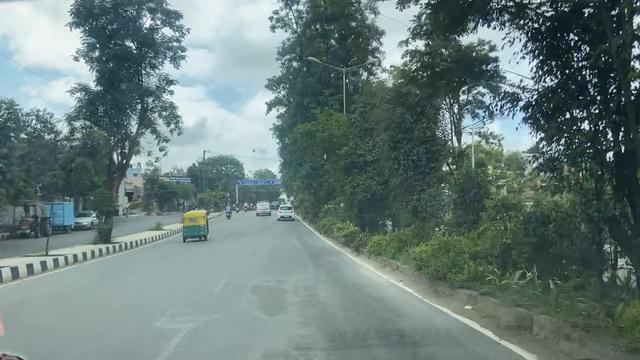LMV: (185, 209, 208, 240), (255, 201, 269, 215), (279, 205, 292, 220), (226, 201, 233, 221)
RoadDamages: (249, 269, 294, 326), (293, 339, 320, 360), (166, 313, 194, 327)
